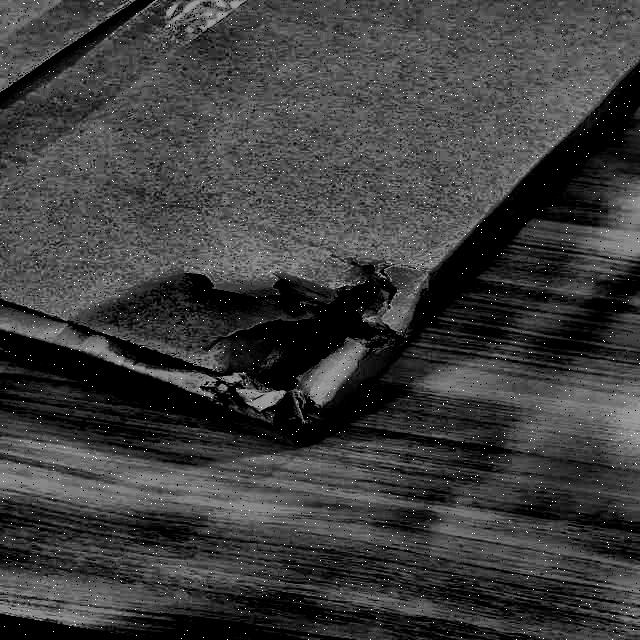box: (1, 0, 640, 468)
hole: (89, 255, 416, 429)
